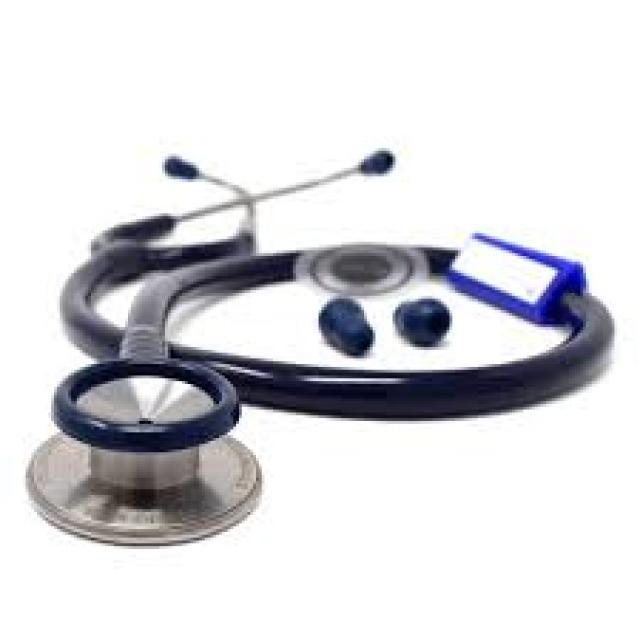stethoscope: (80, 188, 619, 584)
